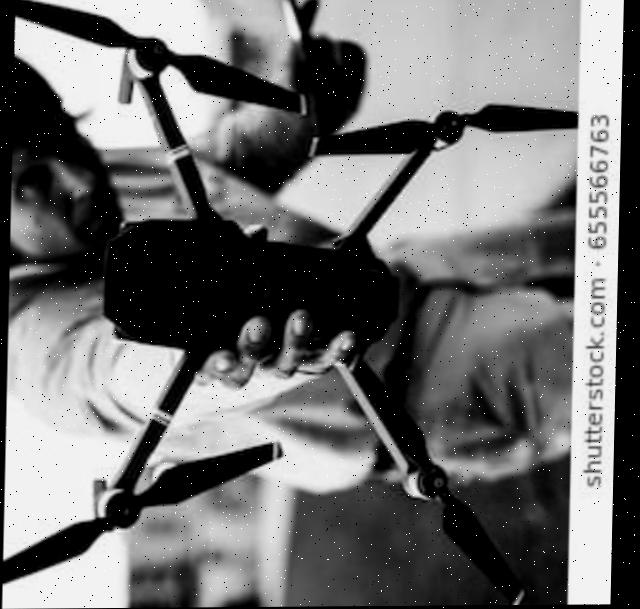drone: (31, 0, 579, 609)
